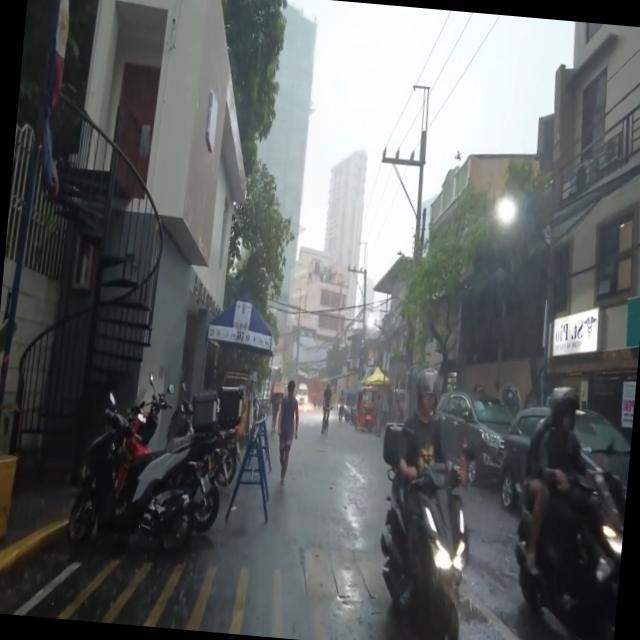half: (549, 386, 582, 436), (415, 366, 442, 414)
